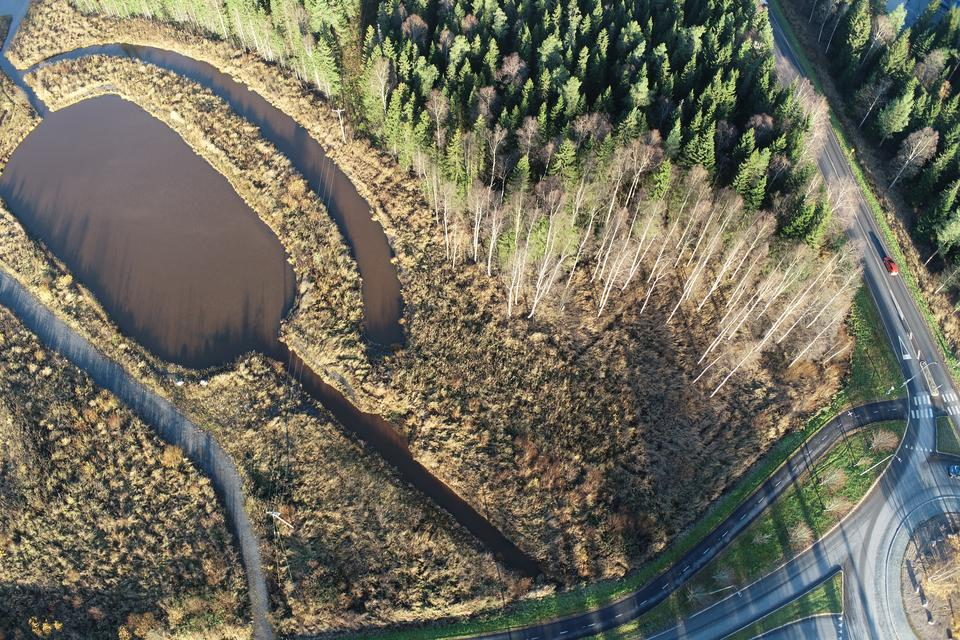intersection: (894, 383, 959, 428), (211, 614, 313, 640)
roundabout: (779, 438, 960, 640)
